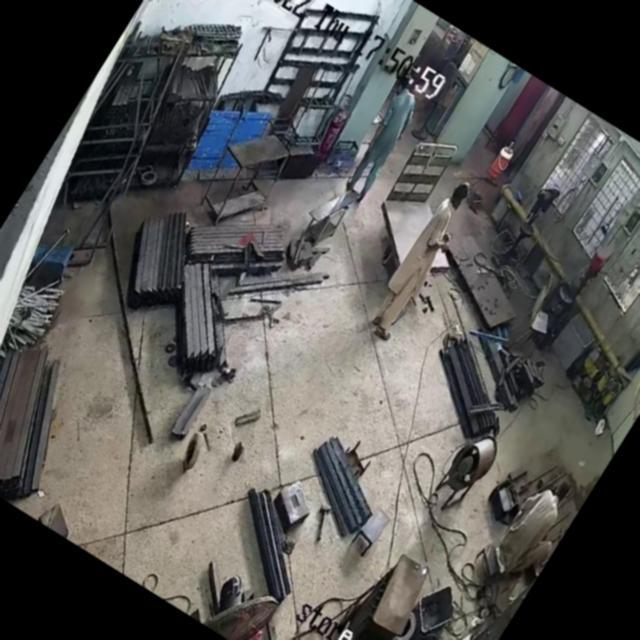person: (362, 174, 486, 344), (484, 464, 590, 594), (334, 72, 435, 204)
